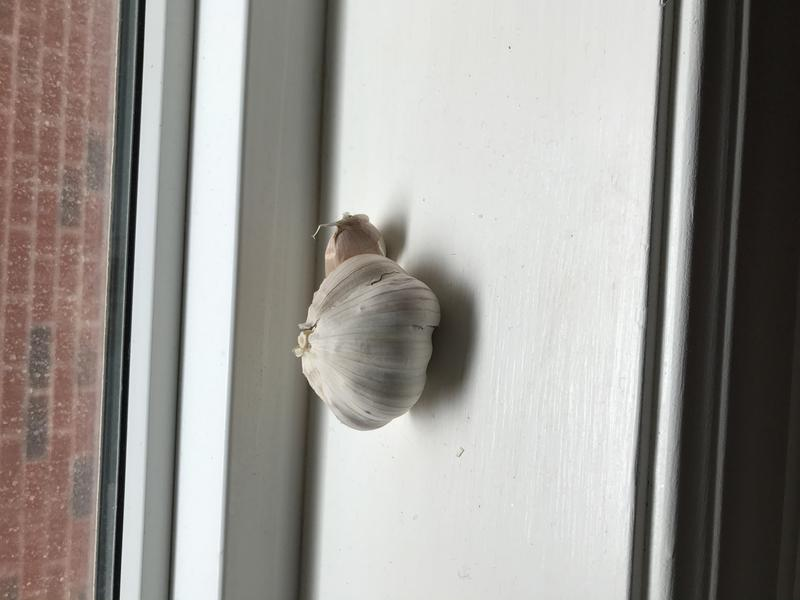garlic: (291, 257, 444, 435), (318, 210, 393, 295)
